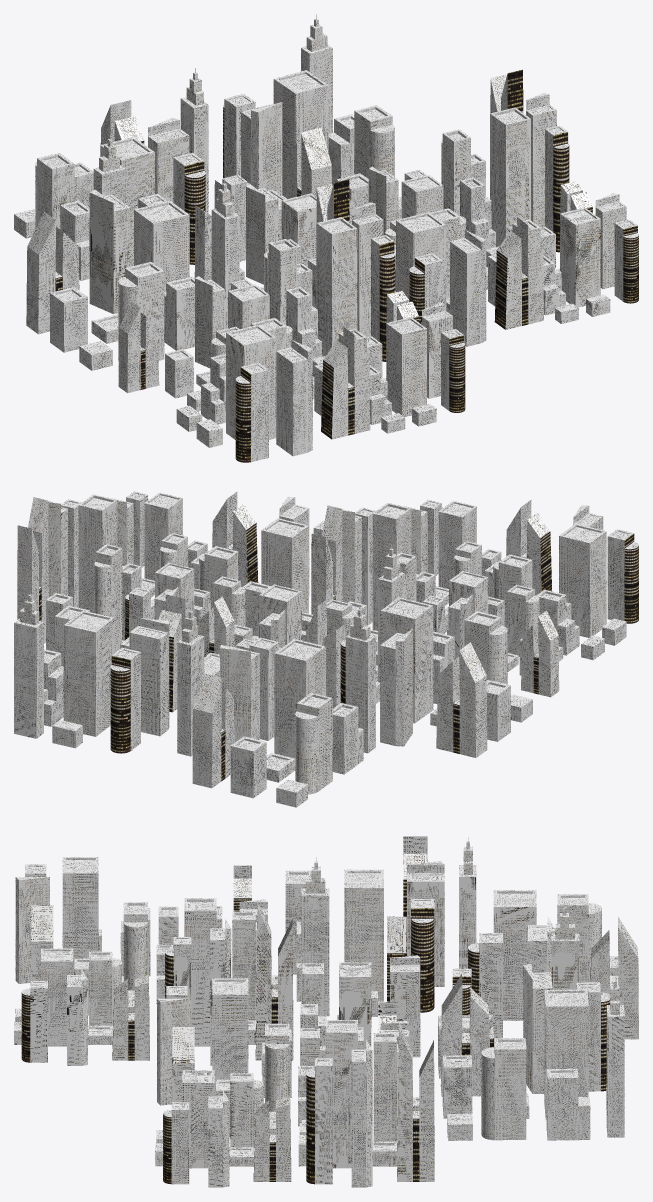
The model's file is city.glb.
3 views of the same model, one above another, from view 1: azimuth 30°, elevation 25°; view 2: azimuth 150°, elevation 25°; view 3: azimuth 270°, elevation 25° (orthographic). The views are drawn at different scales.
Visible parts, largest first — view 1: instance_10.045, instance_5.045, instance_10.086, instance_6.058, instance_1.058, instance_5.086, instance_3.035, instance_9.035, instance_10.029, instance_1.059, instance_10.036, instance_6.059 (+74 smaller); view 2: instance_12.045, instance_5.044, instance_10.045, instance_1.059, instance_5.051, instance_11.059, instance_5.118, instance_6.059, instance_5.014, instance_12.086, instance_9.036, instance_3.036 (+86 smaller); view 3: instance_10.044, instance_5.045, instance_2.059, instance_12.045, instance_1.059, instance_11.059, instance_6.059, instance_5.024, instance_5.036, instance_1.022, instance_10.051, instance_1.028 (+64 smaller).
Part boxes in pixels (x1,y1,x2,y2): instance_10.045: [134, 210, 189, 291]; instance_5.045: [273, 79, 328, 197]; instance_10.086: [89, 193, 113, 313]; instance_6.058: [332, 228, 357, 346]; instance_1.058: [506, 119, 530, 236]; instance_5.086: [258, 102, 282, 195]; instance_3.035: [575, 219, 600, 307]; instance_9.035: [402, 328, 426, 416]; instance_10.029: [50, 293, 87, 352]; instance_1.059: [490, 113, 505, 246]; instance_10.036: [164, 283, 194, 350]; instance_6.059: [316, 223, 331, 356]; instance_12.045: [274, 646, 325, 758]; instance_5.044: [63, 625, 95, 736]; instance_10.045: [380, 606, 433, 723]; instance_1.059: [78, 500, 117, 612]; instance_5.051: [14, 623, 36, 738]; instance_11.059: [559, 536, 589, 637]; instance_5.118: [177, 636, 204, 756]; instance_6.059: [372, 508, 411, 630]; instance_5.014: [129, 632, 160, 736]; instance_12.086: [220, 648, 250, 742]; instance_9.036: [438, 507, 476, 588]; instance_3.036: [144, 498, 182, 580]; instance_10.044: [344, 888, 383, 1001]; instance_5.045: [544, 991, 588, 1120]; instance_2.059: [212, 995, 248, 1096]; instance_12.045: [493, 907, 536, 1020]; instance_1.059: [325, 1032, 357, 1168]; instance_11.059: [62, 873, 98, 974]; instance_6.059: [184, 911, 216, 1046]; instance_5.024: [494, 1041, 526, 1140]; instance_5.036: [546, 1073, 590, 1140]; instance_1.022: [373, 1041, 396, 1141]; instance_10.051: [301, 895, 329, 1016]; instance_1.028: [397, 1022, 412, 1181].
Size of the model in its own units: 942 by 276 by 1006.
53 materials, 40 textured.
